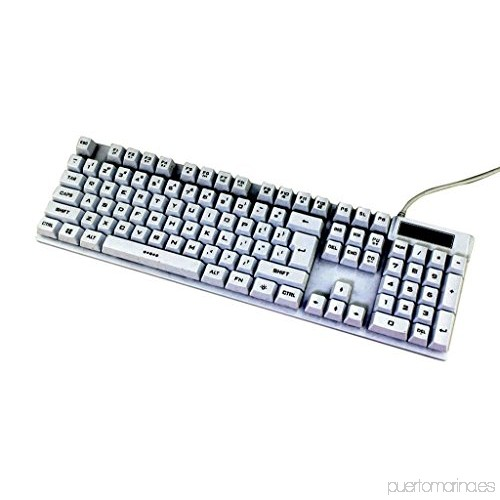Teclado: (35, 135, 475, 368)
